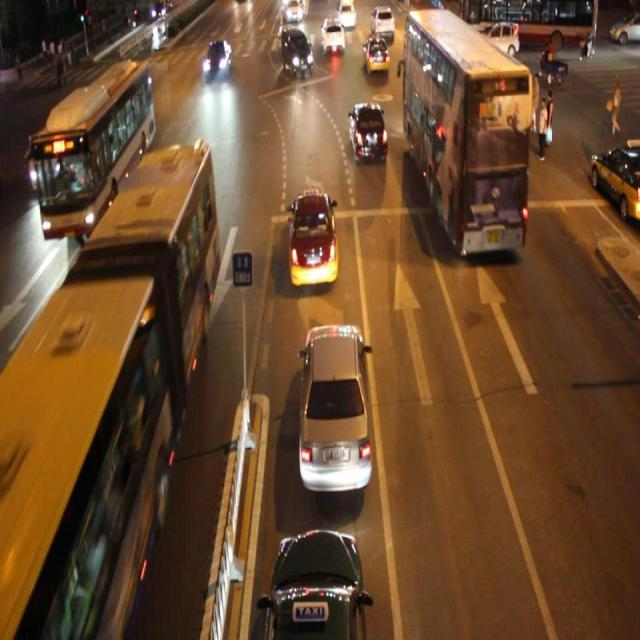car: (298, 320, 373, 493), (260, 526, 367, 640), (287, 188, 339, 284), (348, 100, 388, 162), (26, 129, 61, 191), (280, 28, 314, 75), (203, 38, 232, 82), (364, 36, 389, 73), (322, 18, 345, 55)
van: (1, 143, 218, 640), (402, 11, 528, 253), (37, 59, 152, 234)
